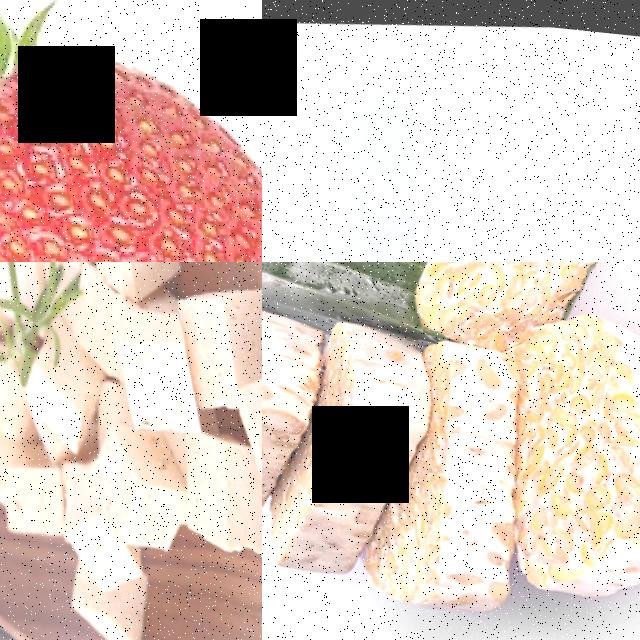strawberry: (0, 1, 262, 262)
tempeh: (491, 303, 640, 596), (347, 461, 512, 613), (306, 312, 438, 462), (390, 262, 640, 340)
tofu: (81, 415, 183, 552), (110, 296, 198, 427), (176, 421, 262, 553), (172, 264, 262, 379), (57, 484, 134, 589), (18, 361, 101, 447), (63, 566, 146, 640), (0, 450, 63, 534), (233, 354, 262, 503), (80, 262, 181, 292)
